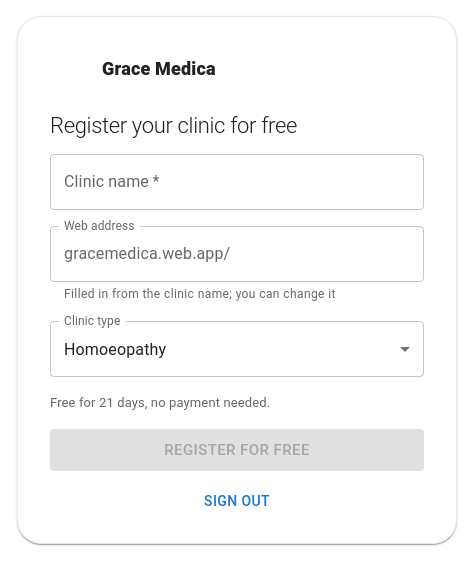
SetupPage › shows a taken web address in red and blocks registering
The image size is (475, 563).
Type "Sun Clinic" into the field labelled "Clinic name *" at (237, 182), box [50, 154, 424, 210]
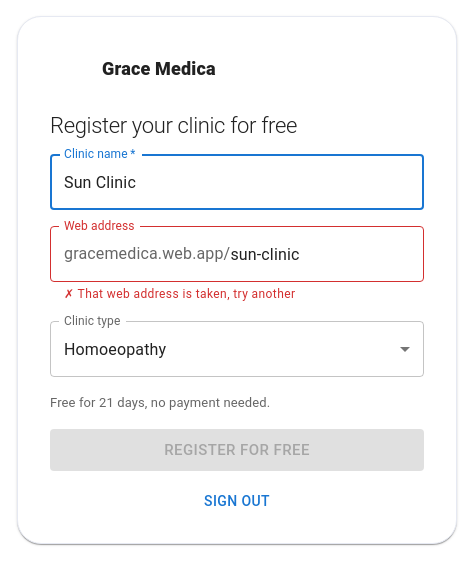
Expected: the button "Register for free" is disabled, [50, 429, 424, 471]
Expected: the text "✗ That web address is taken, try another" is shown, [64, 287, 295, 301]
